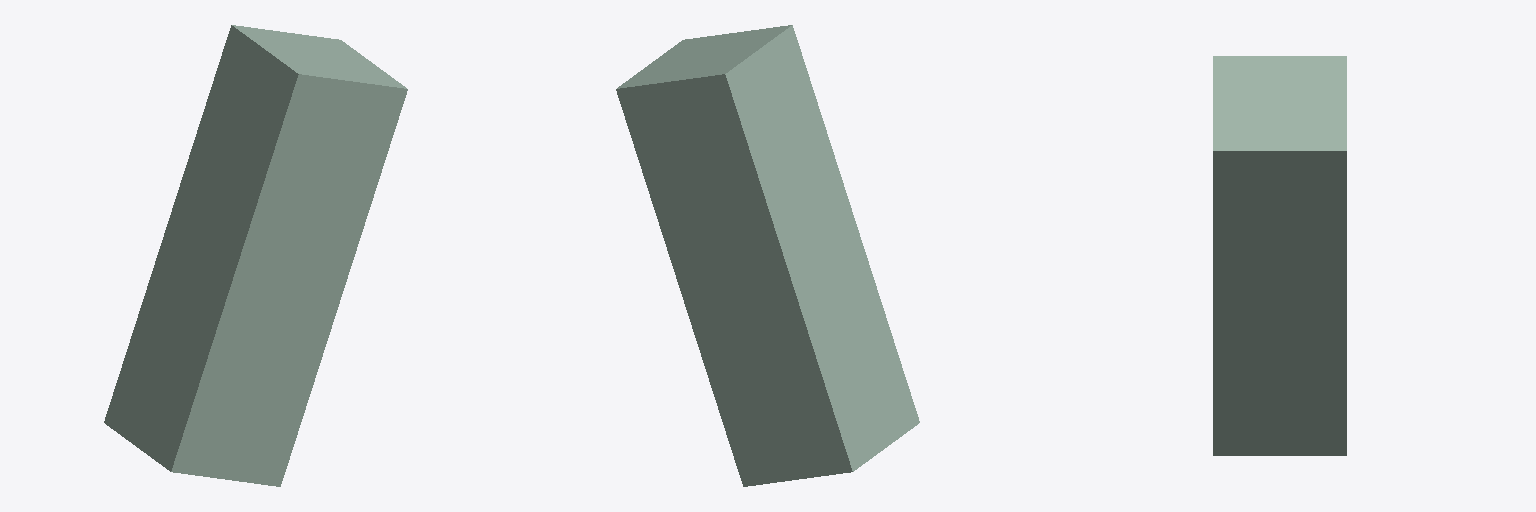
3 views of the same model, side by side, from view 1: azimuth 30°, elevation 25°; view 2: azimuth 150°, elevation 25°; view 3: azimuth 270°, elevation 25° (orthographic).
Parts seen in each view (by area): view 1: Cube; view 2: Cube; view 3: Cube.
Part boxes in pixels (left/top/right/bottom): Cube: left=104, top=25, right=407, bottom=486; Cube: left=616, top=25, right=919, bottom=486; Cube: left=1213, top=56, right=1346, bottom=455.
Bounding box in the file's own units: 1.02 × 1.67 × 0.5.
1 materials, 1 textured.